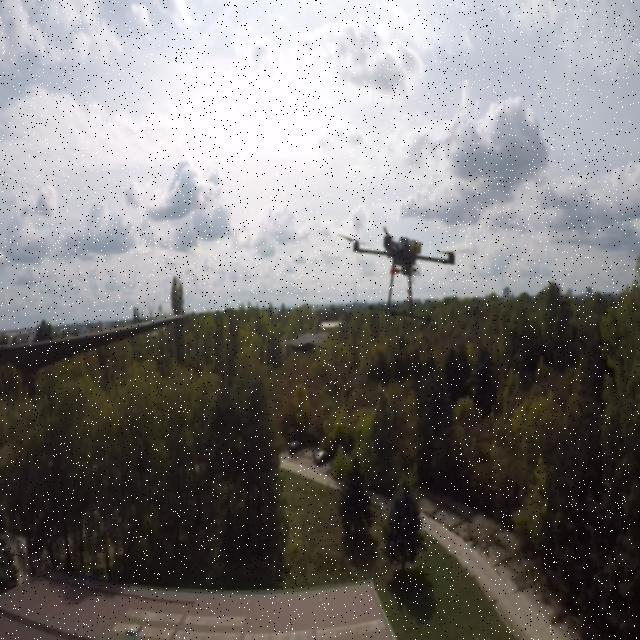UAV: (343, 220, 459, 308)
